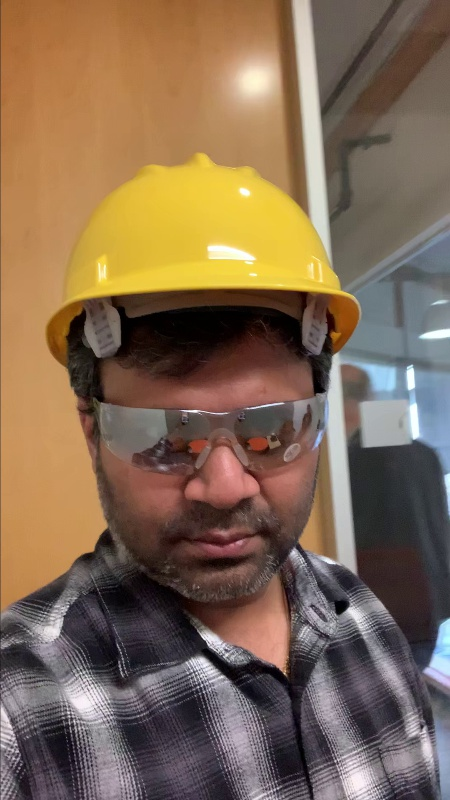glasses: (89, 389, 328, 486)
helmet: (31, 144, 373, 353)
